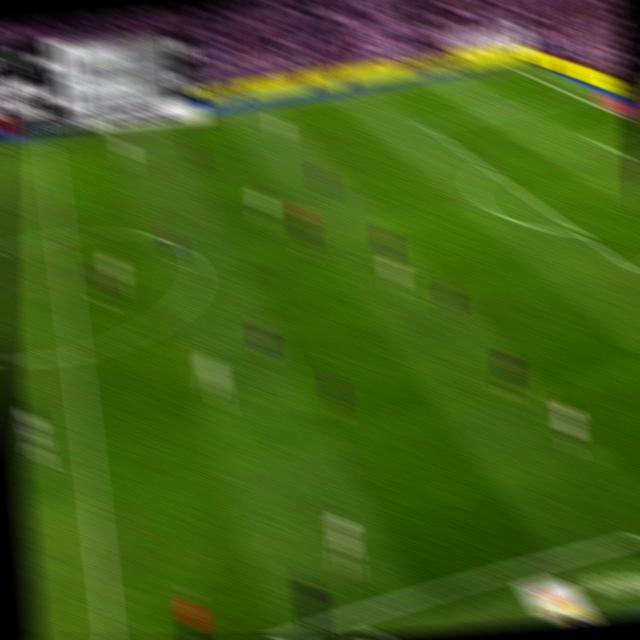bigarea_top_inner: (419, 116, 435, 134)
bottom_arc_area_intersection: (568, 219, 587, 241)
halfcircle_bottom: (64, 338, 86, 366)
halfcircle_top: (48, 223, 70, 249)
midline_top_intersection: (39, 132, 55, 148)
smallarea_top_inner: (582, 129, 598, 146)
top_arc_area_intersection: (477, 157, 493, 174)
